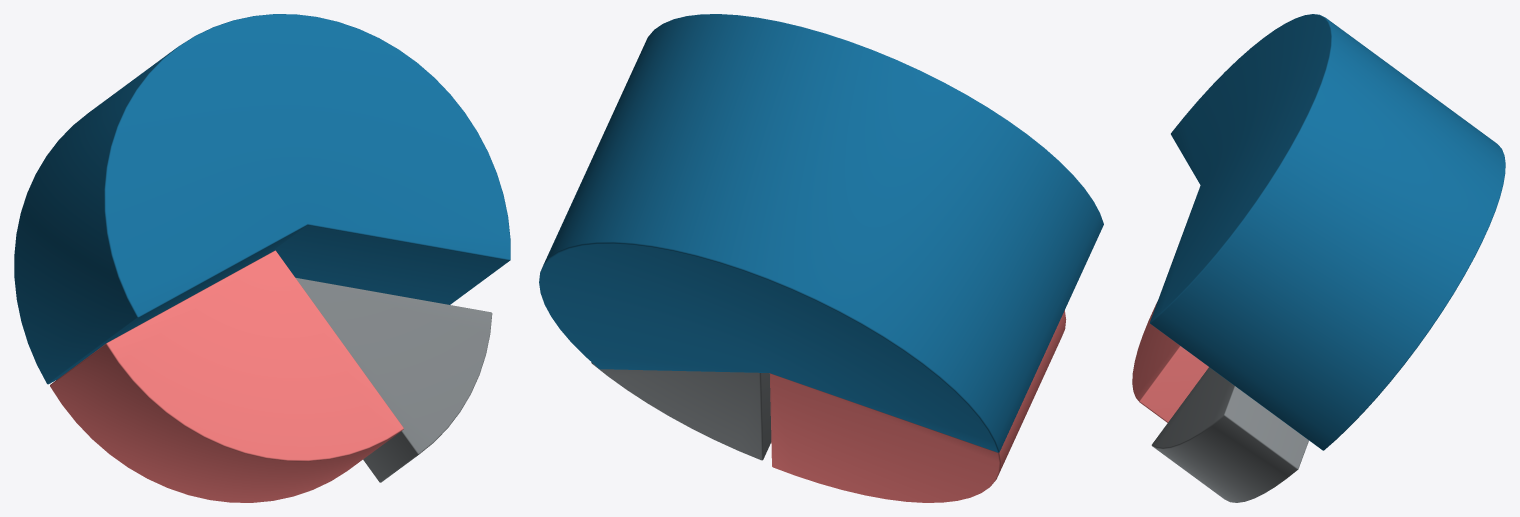
Rendered from pie-chart.fbx.
3 renders of one model, left to right at view 1: azimuth 30°, elevation 25°; view 2: azimuth 150°, elevation 25°; view 3: azimuth 270°, elevation 25°, orthographic. The views are drawn at different scales.
Parts seen in each view (by area): view 1: Cylinder.001; view 2: Cylinder.001; view 3: Cylinder.001.
Boxes of the visible parts, <box> form: Cylinder.001: <box>14,14,510,502</box>; Cylinder.001: <box>539,14,1103,502</box>; Cylinder.001: <box>1132,14,1505,502</box>.
Bounding box in the file's own units: 182 × 199 × 159.
